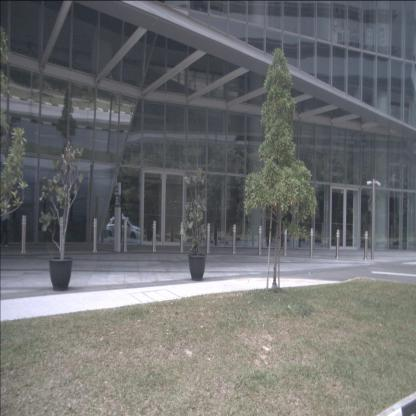human-pedestrian-adult: (0, 188, 11, 248)
